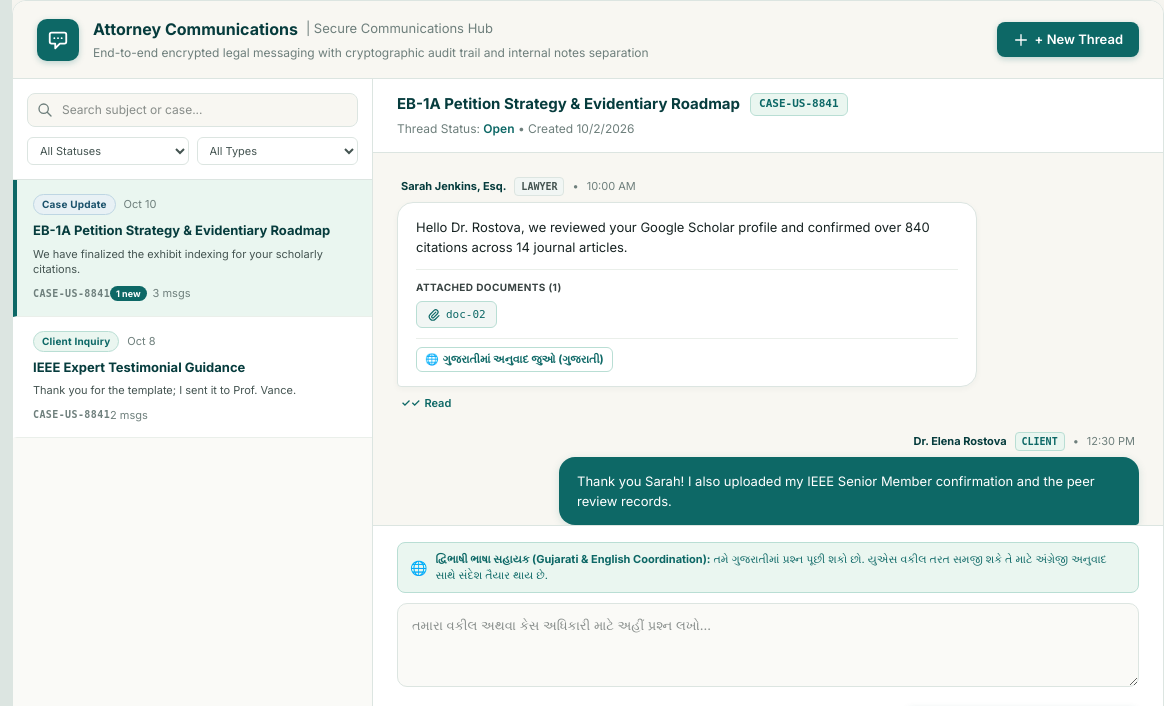
it: Retained Client Localization — Gujarati (ગુજરાતી) & Hindi (हिन्दी) Support › 6. SecureMessagingHub Incoming Message Translation › provides on-demand translation toggle into Gujarati for English legal advice
Click the button "🌐 ગુજરાતીમાં અનુવાદ જુઓ (ગુજરાતી)" at (514, 360), box [416,347,613,372]
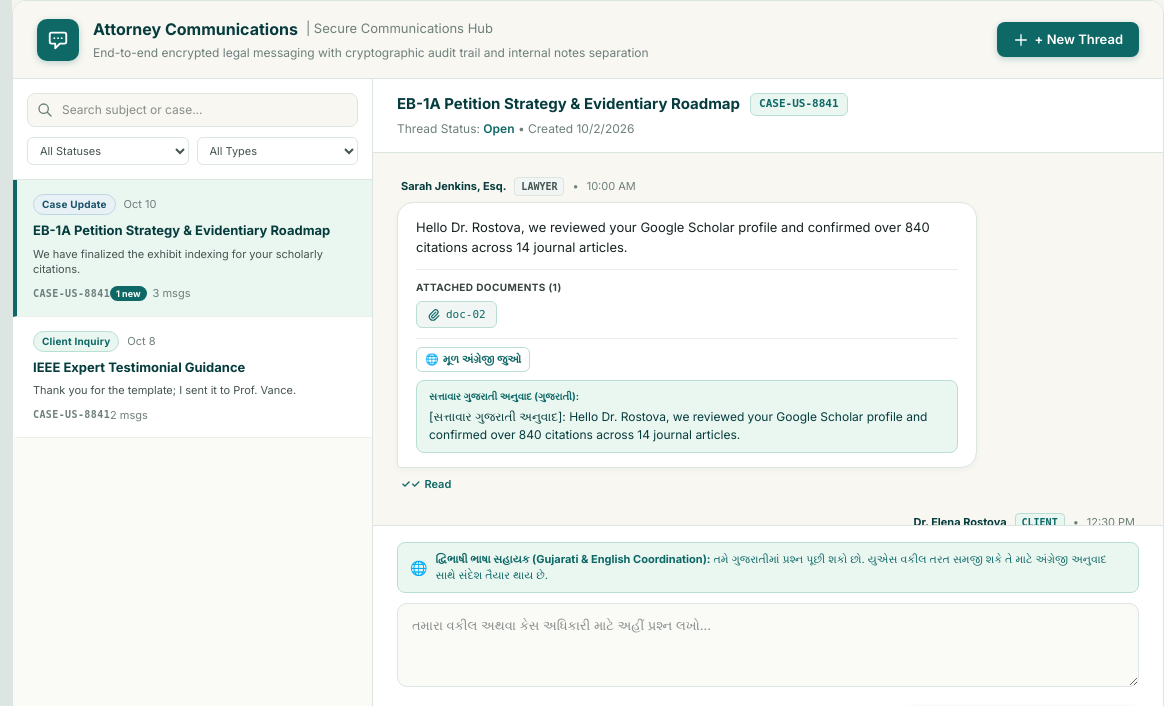
Result: the text "સત્તાવાર ગુજરાતી અનુવાદ (ગુજરાતી):" is shown at [429,390,579,402]
